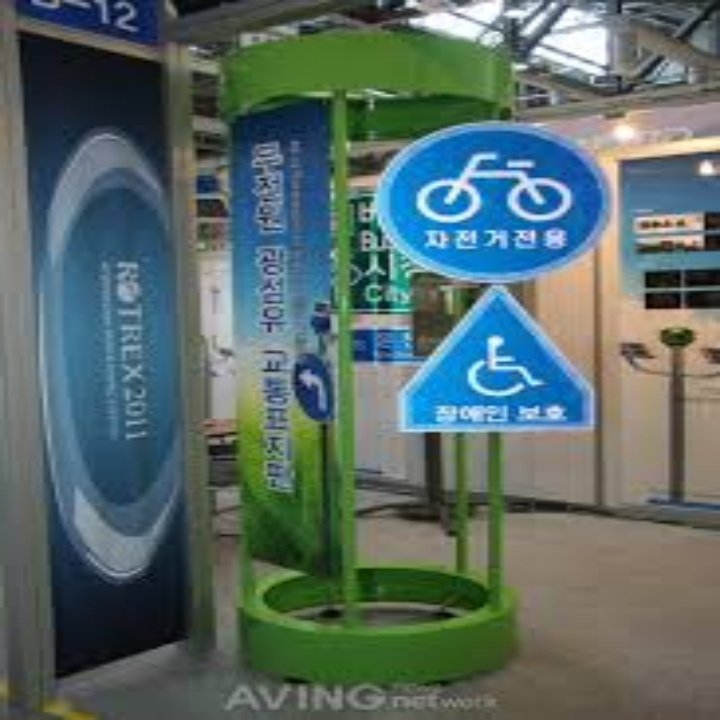bicycle: (419, 148, 574, 228)
left: (291, 362, 334, 420)
